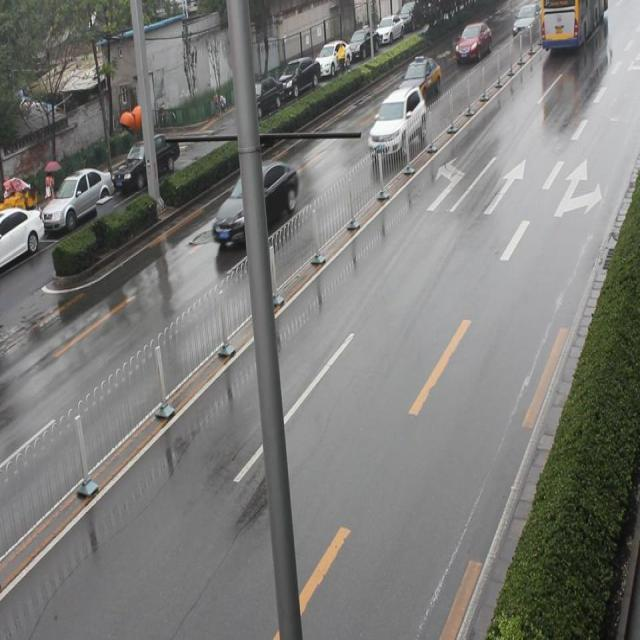car: (212, 162, 302, 253), (365, 86, 428, 163), (397, 52, 441, 101), (454, 20, 494, 63)
van: (540, 1, 605, 51)
